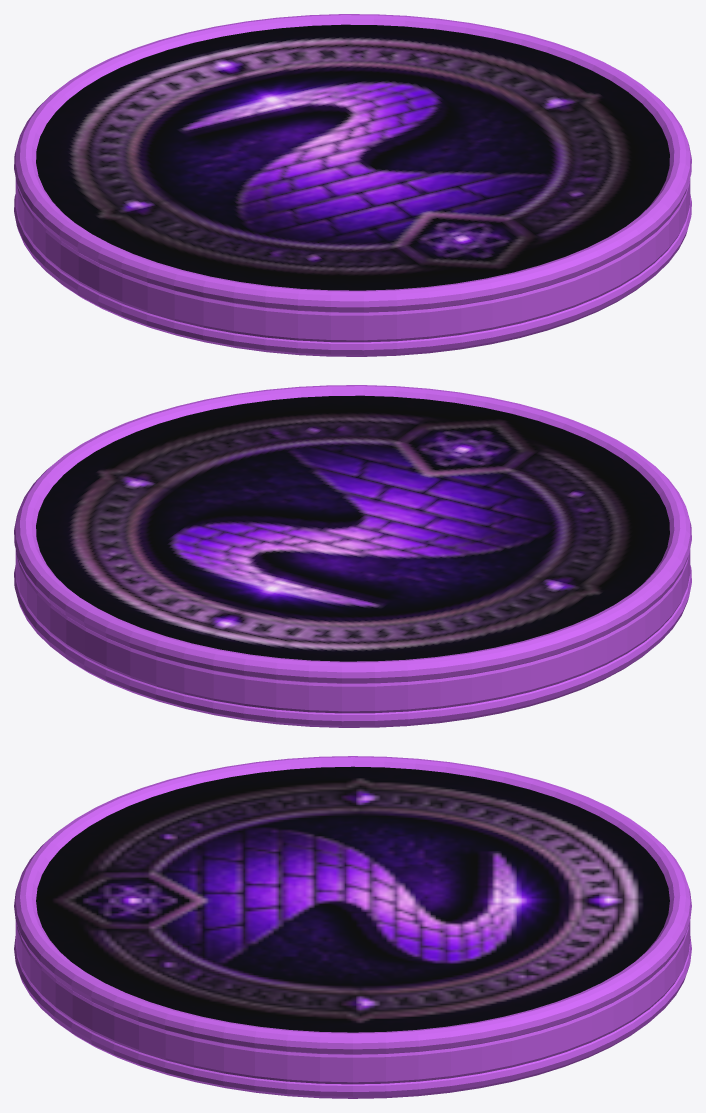
Rendered from coin-pbr.glb.
The picture shows the model from 3 angles, top to bottom: view 1: azimuth 30°, elevation 25°; view 2: azimuth 150°, elevation 25°; view 3: azimuth 270°, elevation 25°; orthographic projection.
Visible parts, largest first — view 1: FaceDiscFront, Rim, Coin_pbr, Rim.001; view 2: FaceDiscFront, Rim, Coin_pbr, Rim.001; view 3: FaceDiscFront, Rim, Coin_pbr, Rim.001.
Boxes of the visible parts, x1,y1,x2,y2 form: FaceDiscFront: [36, 24, 669, 290]; Rim: [14, 14, 691, 312]; Coin_pbr: [15, 178, 690, 342]; Rim.001: [14, 194, 691, 356]; FaceDiscFront: [36, 395, 669, 661]; Rim: [14, 385, 691, 683]; Coin_pbr: [15, 549, 690, 713]; Rim.001: [14, 565, 691, 727]; FaceDiscFront: [36, 766, 669, 1032]; Rim: [14, 756, 691, 1054]; Coin_pbr: [15, 921, 690, 1084]; Rim.001: [14, 936, 691, 1098].
Size of the model in its own units: 2.01 by 0.21 by 2.01.
Materials: 2 (1 with a texture image).
